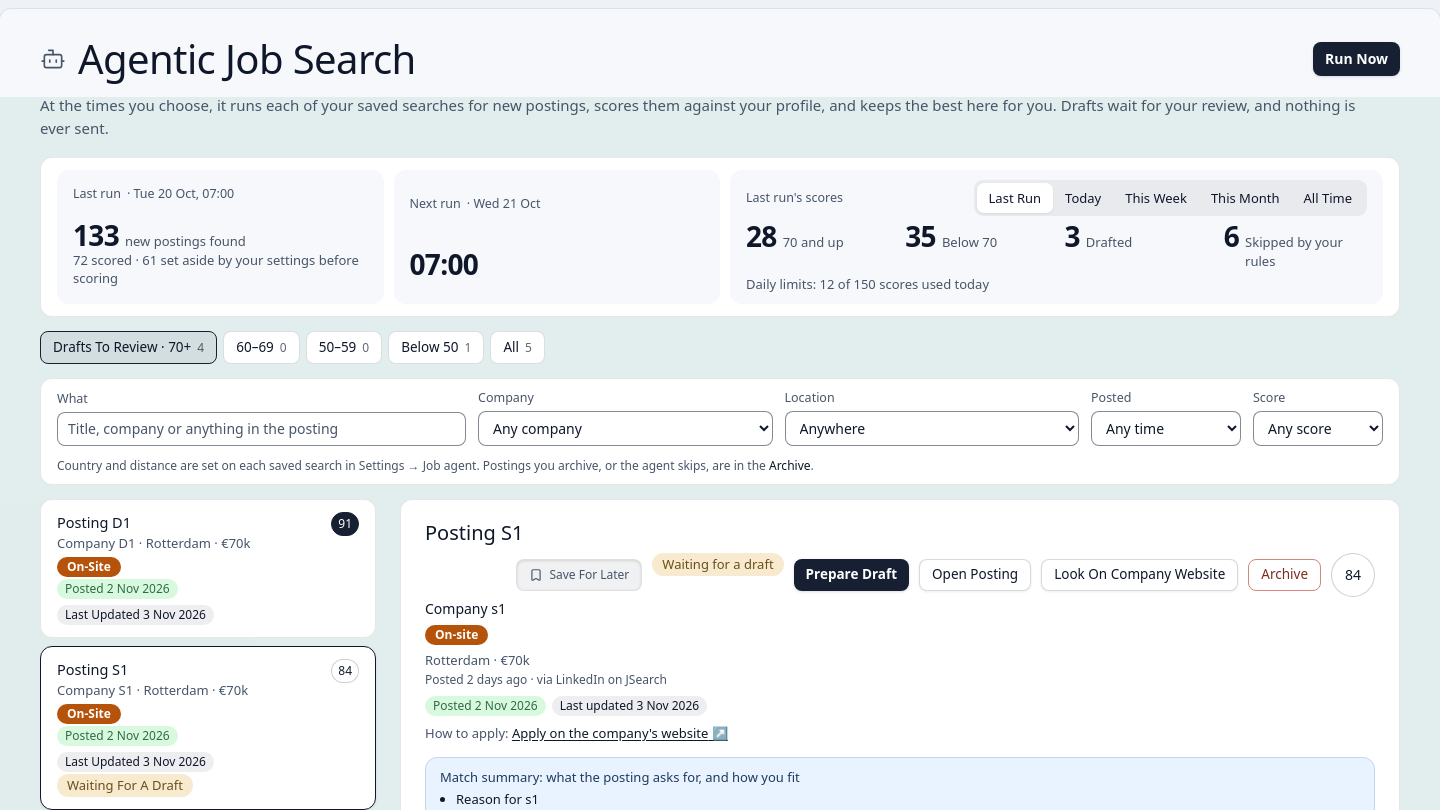
it: AgentScreen (E16-6) › looks on the company's website from a posting that hasn't been, and says what a look found
The width and height of the screenshot is (1440, 810).
Click the button "Look on company website" at {"x": 1140, "y": 575}, box [1041,559,1238,591]
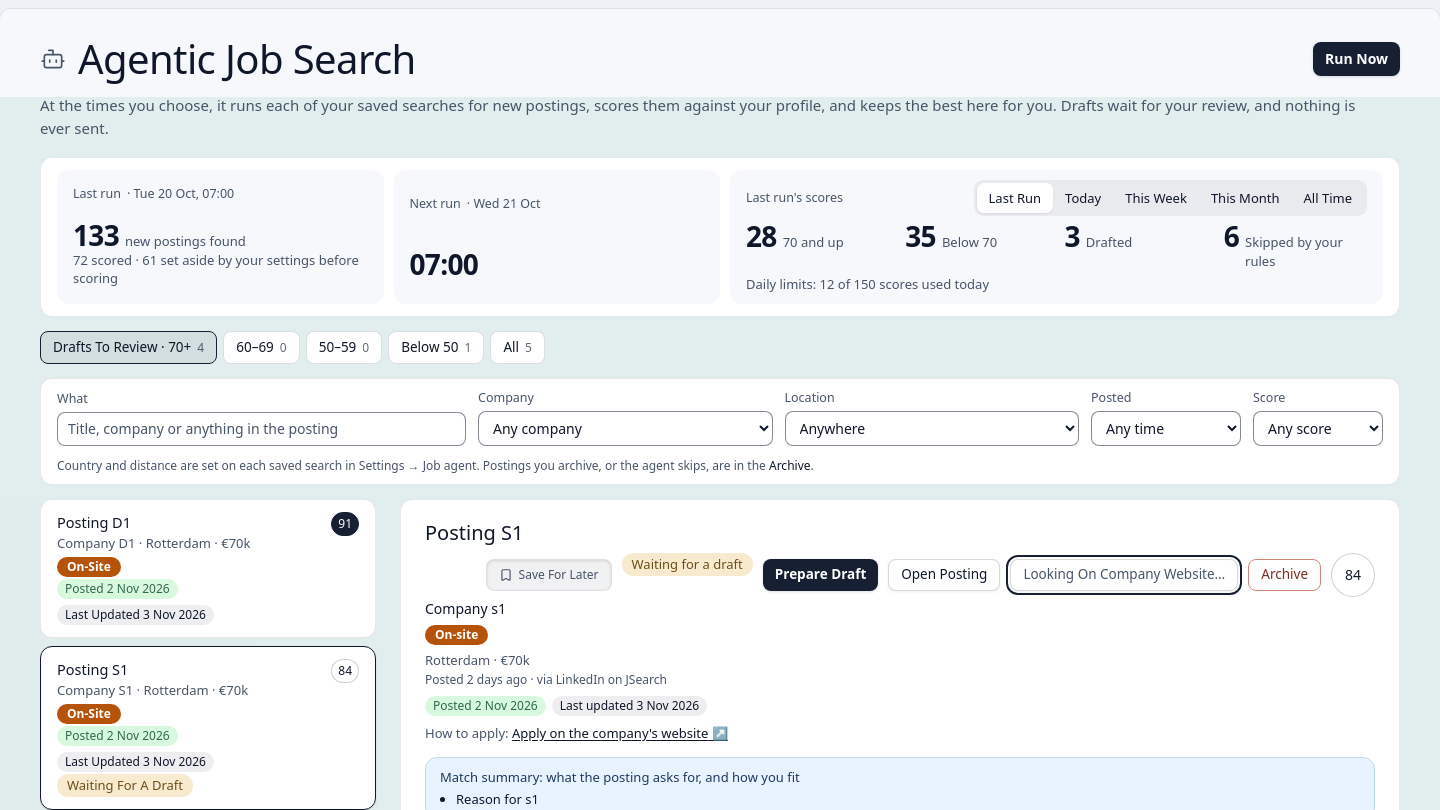
Now the button "Looking on company website…" is shown, box [1010,559,1238,591]
